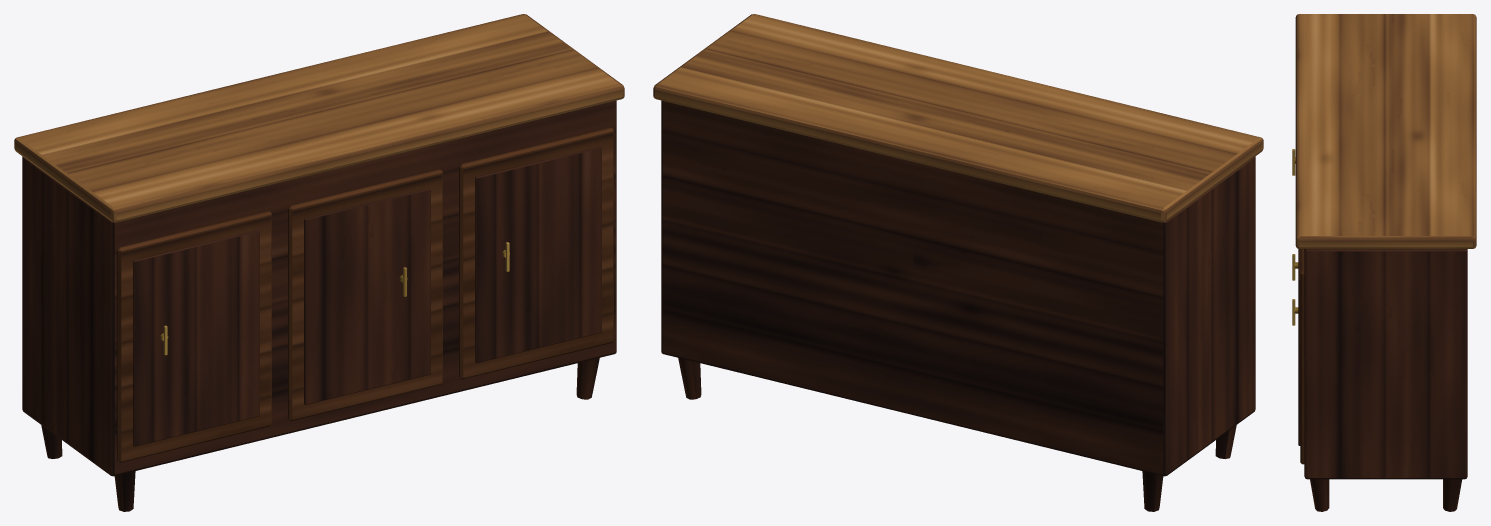
Rendered from sideboard.glb.
3 renders of one model, left to right at view 1: azimuth 30°, elevation 25°; view 2: azimuth 150°, elevation 25°; view 3: azimuth 270°, elevation 25°, orthographic. The views are drawn at different scales.
Parts seen in each view (by area): view 1: sideboard; view 2: sideboard; view 3: sideboard.
Part boxes in pixels (bbox=[...]): sideboard: bbox=[14, 14, 624, 511]; sideboard: bbox=[653, 14, 1263, 511]; sideboard: bbox=[1292, 14, 1476, 511].
Bounding box in the file's own units: 1.5 × 0.8822 × 0.519.
Materials: 4 (4 with a texture image).
